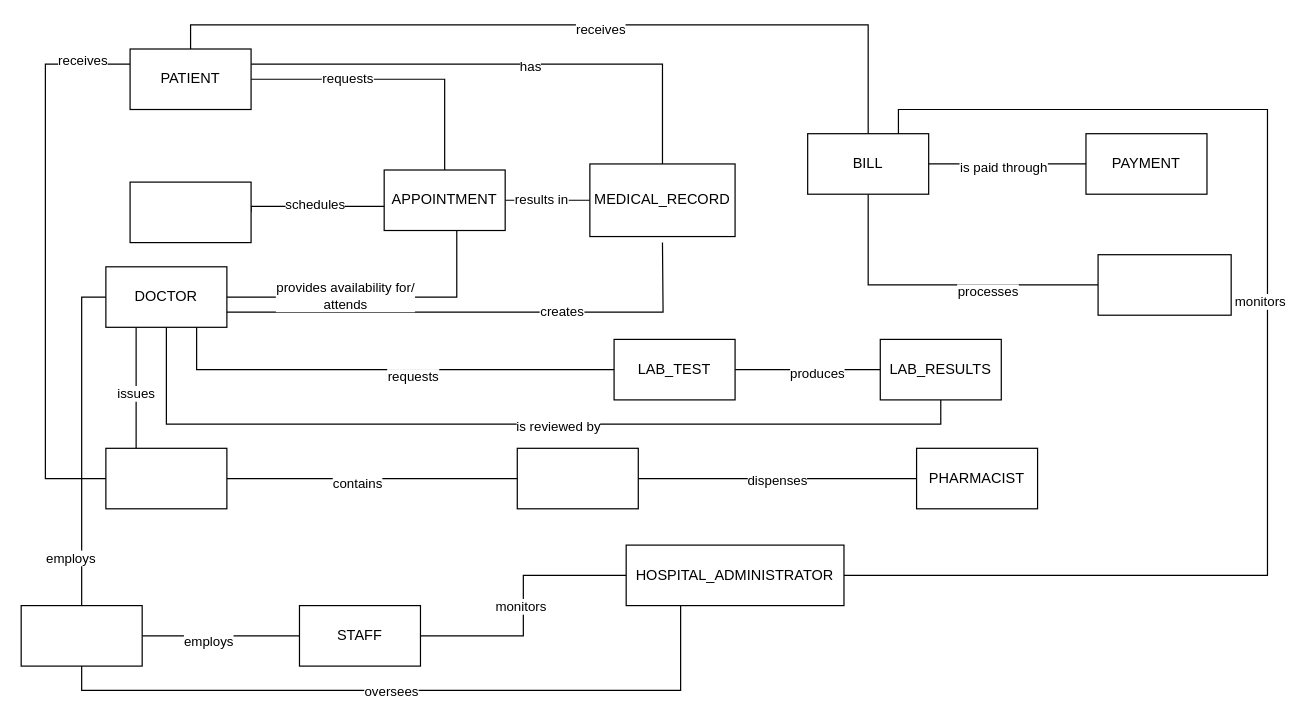
Some shapes in this 1306 by 719 pixel diagram are drawn without their labels. The centre of each missing label's shape, as x and y in pixels:
"BILLING_OFFICER" goes at [1164,284].
"DEPARTMENT" goes at [81,635].
"MEDICATION" goes at [577,478].
"PRESCRIPTION" goes at [166,478].
"RECEPTIONIST" goes at [190,212].
